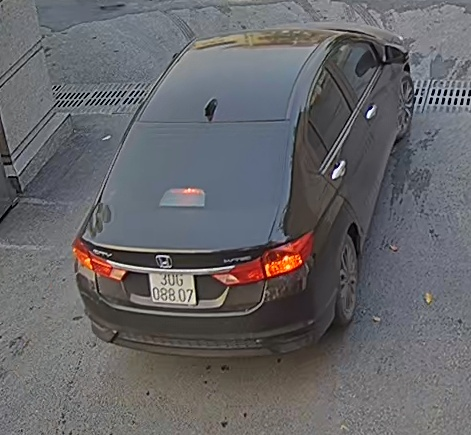vehicle plate: (144, 265, 198, 310)
